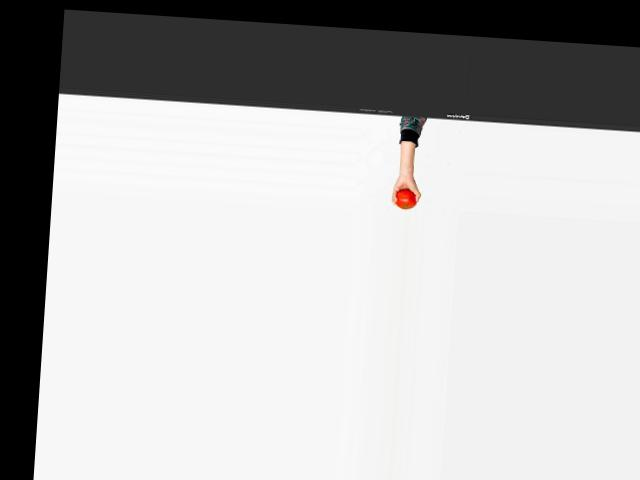tomato: (394, 188, 417, 210)
